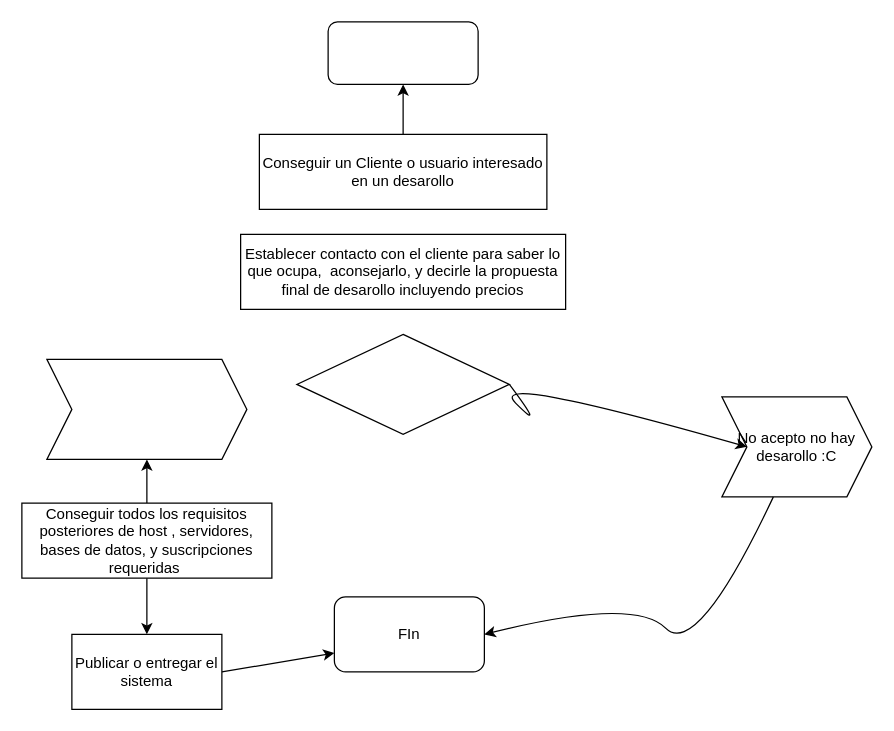
The diagram is 894 pixels wide and 731 high, and some of its shapes have lost their labels. The shapes that lost their labels are listed below. From the top down, each one's box as (x1, y1, x2, y2) in pixels, then its label:
(327, 21, 478, 84): Inicio
(296, 333, 509, 434): El cliente acepto la propuesta?
(46, 358, 247, 459): Comenzar con el desarollo del sistema solicitado
